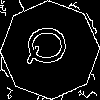Q: (25, 25, 75, 66)
